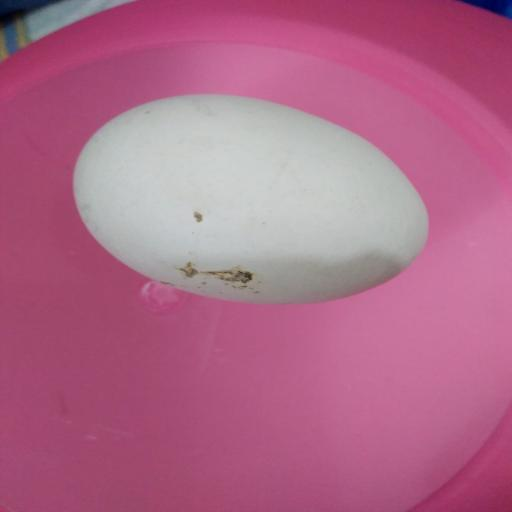telur: (61, 84, 434, 315)
